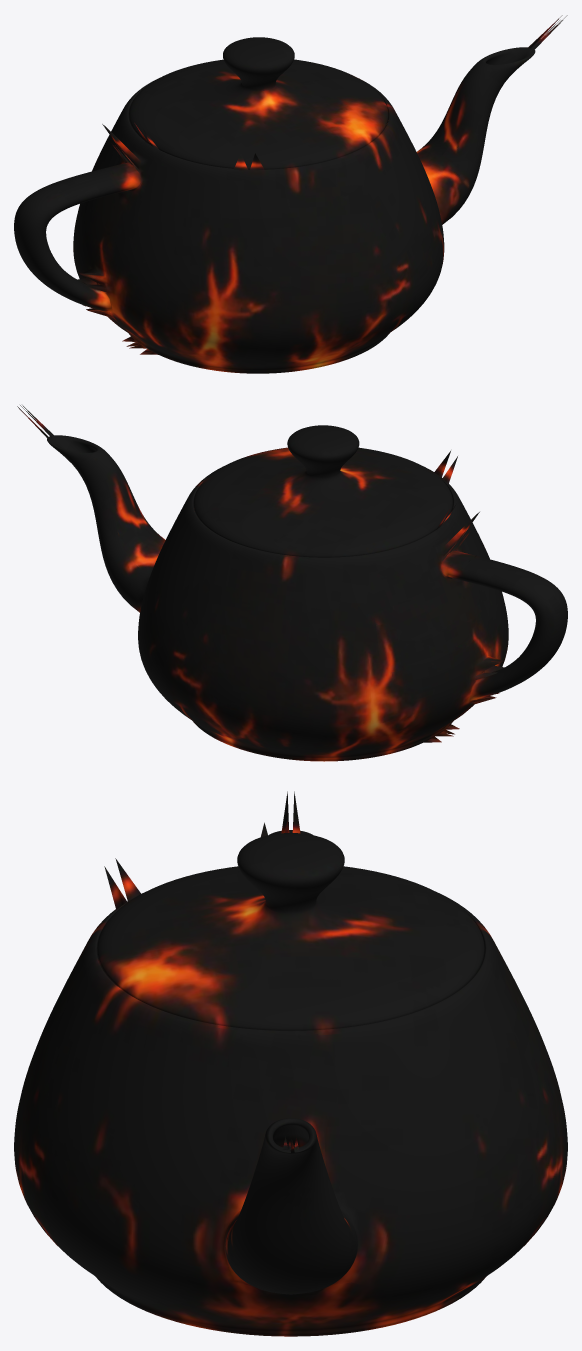
File: frame_0006.glb
3 views of the same model, one above another, from view 1: azimuth 30°, elevation 25°; view 2: azimuth 150°, elevation 25°; view 3: azimuth 270°, elevation 25° (orthographic). The views are drawn at different scales.
Visible parts, largest first — view 1: world; view 2: world; view 3: world.
Part boxes in pixels (x1,y1,x2,y2): world: (14,15,567,373); world: (17,405,567,761); world: (14,791,567,1336).
Bounding box in the file's own units: 1 × 0.4811 × 0.5823.
Materials: 1 (1 with a texture image).
